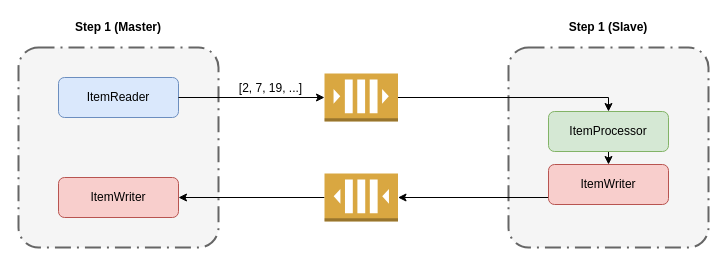
Image size: 726x265. Some labels were removed from this diagram. Here are the shapes that lost their labels. From the top down, the centre of each, then its label:
the point at 361,97: Requests SQS
the point at 361,197: Responses SQS
